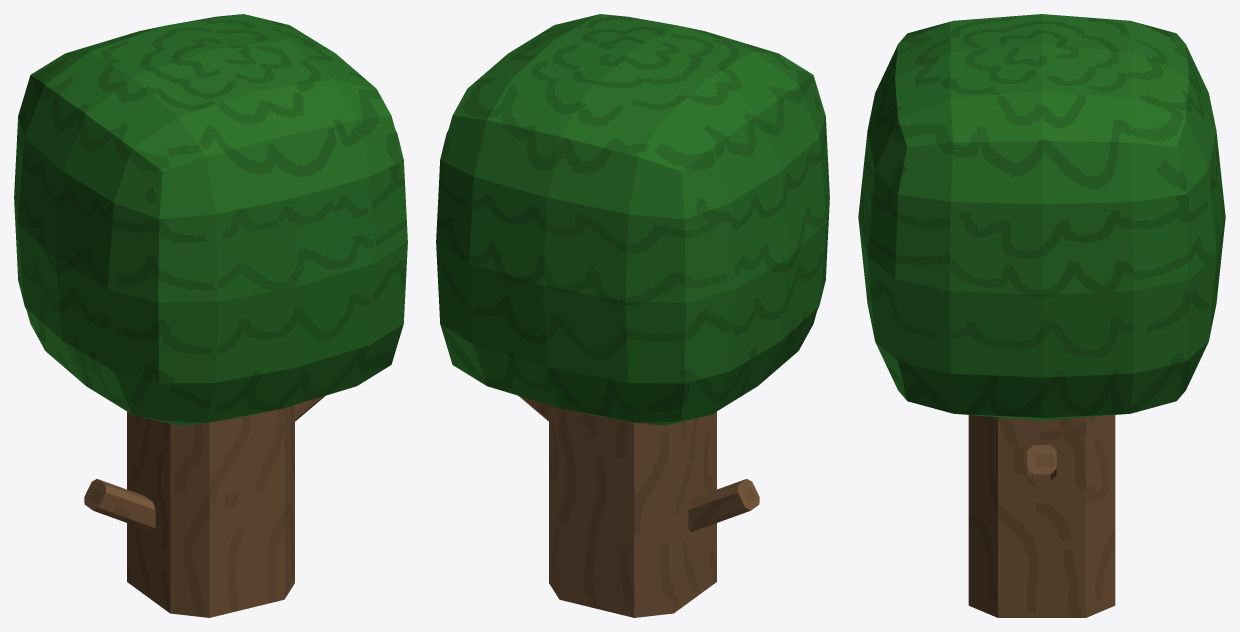
Rendered from tree3d.gltf.
The picture shows the model from 3 angles, left to right: view 1: azimuth 30°, elevation 25°; view 2: azimuth 150°, elevation 25°; view 3: azimuth 270°, elevation 25°; orthographic projection.
Visible parts, largest first — view 1: beveled_cuboid; view 2: beveled_cuboid; view 3: beveled_cuboid.
Part boxes in pixels (x1,y1,x2,y2): beveled_cuboid: (14,14,407,617); beveled_cuboid: (436,14,829,617); beveled_cuboid: (858,14,1225,617).
Bounding box in the file's own units: 1.56 × 2.55 × 1.56.
2 materials, 2 textured.
